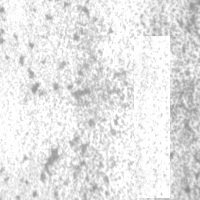pitted_surface: (12, 2, 199, 198), (134, 36, 170, 198)
